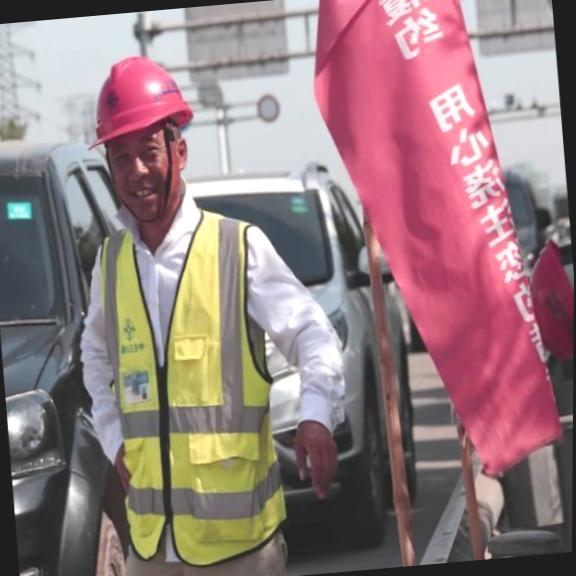safety_vest: (83, 205, 294, 572)
